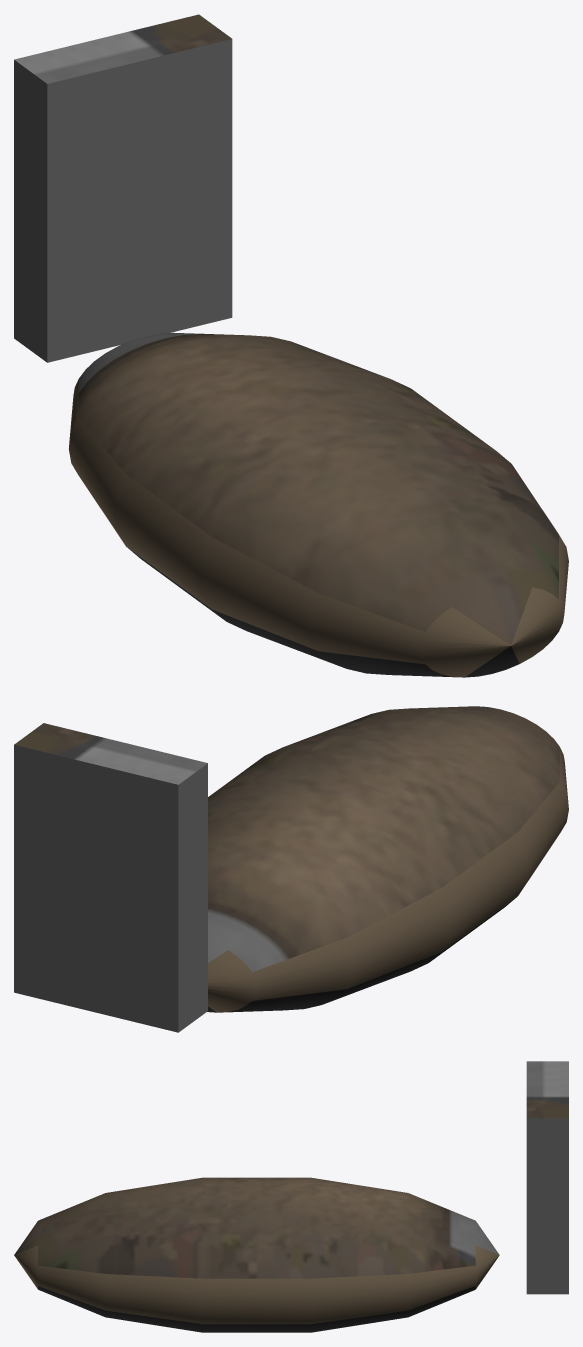
Rendered from Building_Grave__Full.obj.
3 renders of one model, top to bottom at view 1: azimuth 30°, elevation 25°; view 2: azimuth 150°, elevation 25°; view 3: azimuth 270°, elevation 25°, orthographic. The views are drawn at different scales.
Parts seen in each view (by area): view 1: Body; view 2: Body; view 3: Body.
Part boxes in pixels (x1,y1,x2,y2): Body: (14, 14, 568, 677); Body: (14, 706, 568, 1032); Body: (14, 1061, 568, 1332).
Bounding box in the file's own units: 0.8774 × 0.9637 × 2.06.
Materials: 1 (1 with a texture image).
